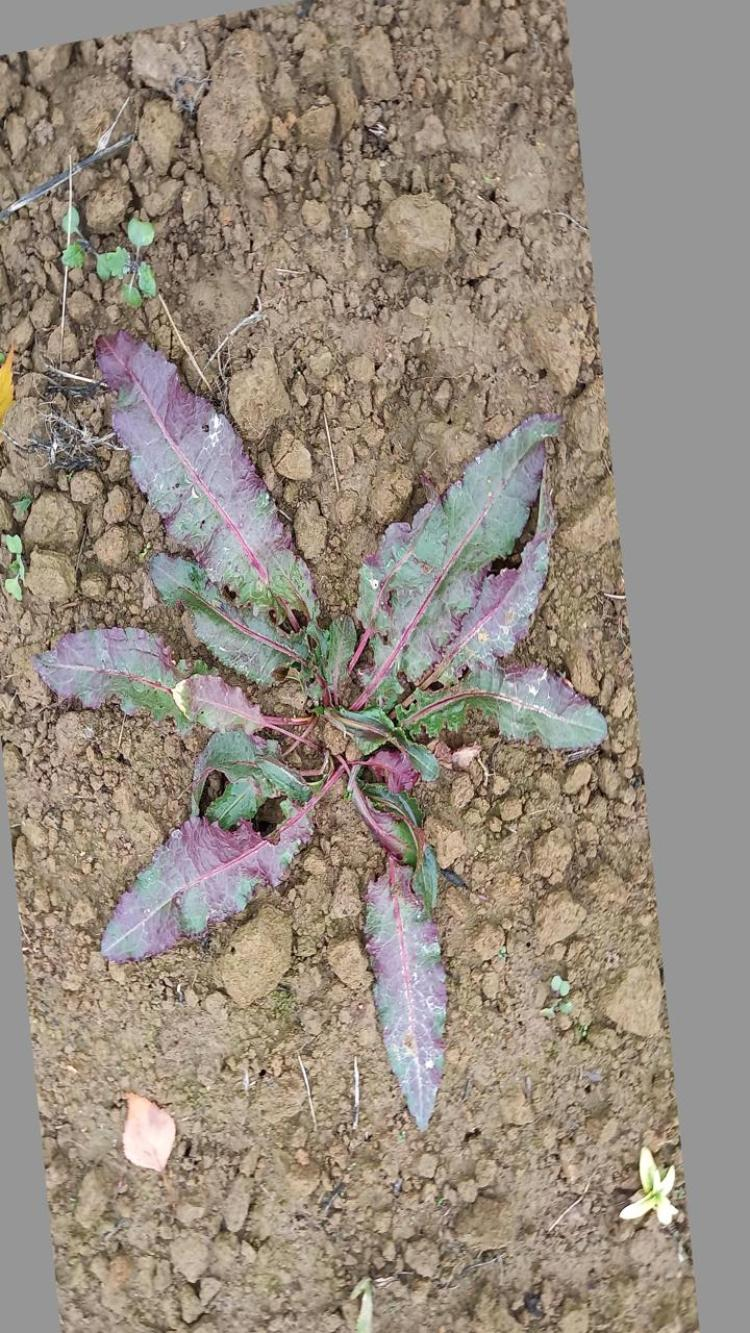zhavel: (34, 329, 610, 1131)
